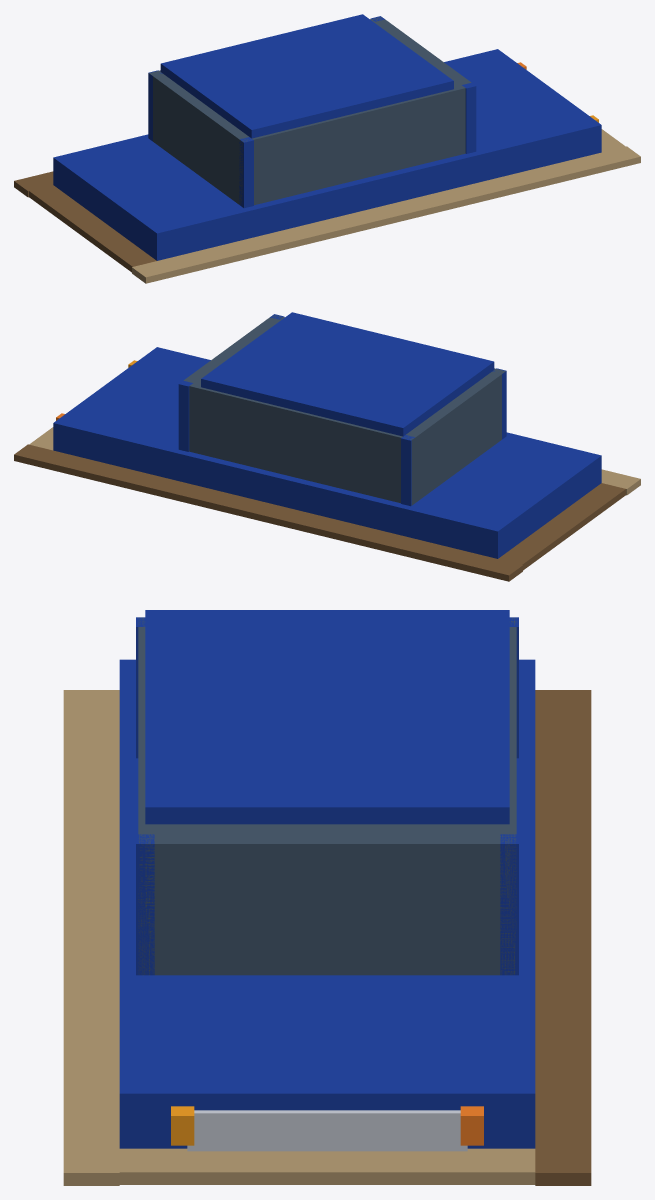
The model's file is auto_inundado_2.obj.
3 views of the same model, one above another, from view 1: azimuth 30°, elevation 25°; view 2: azimuth 150°, elevation 25°; view 3: azimuth 270°, elevation 25° (orthographic). The views are drawn at different scales.
Parts seen in each view (by area): view 1: auto_inundado_2; view 2: auto_inundado_2; view 3: auto_inundado_2.
Part boxes in pixels (left/top/right/bottom): auto_inundado_2: left=14, top=14, right=640, bottom=283; auto_inundado_2: left=14, top=312, right=640, bottom=581; auto_inundado_2: left=63, top=610, right=591, bottom=1185.
Bounding box in the file's own units: 4.9 × 1.02 × 2.26.
